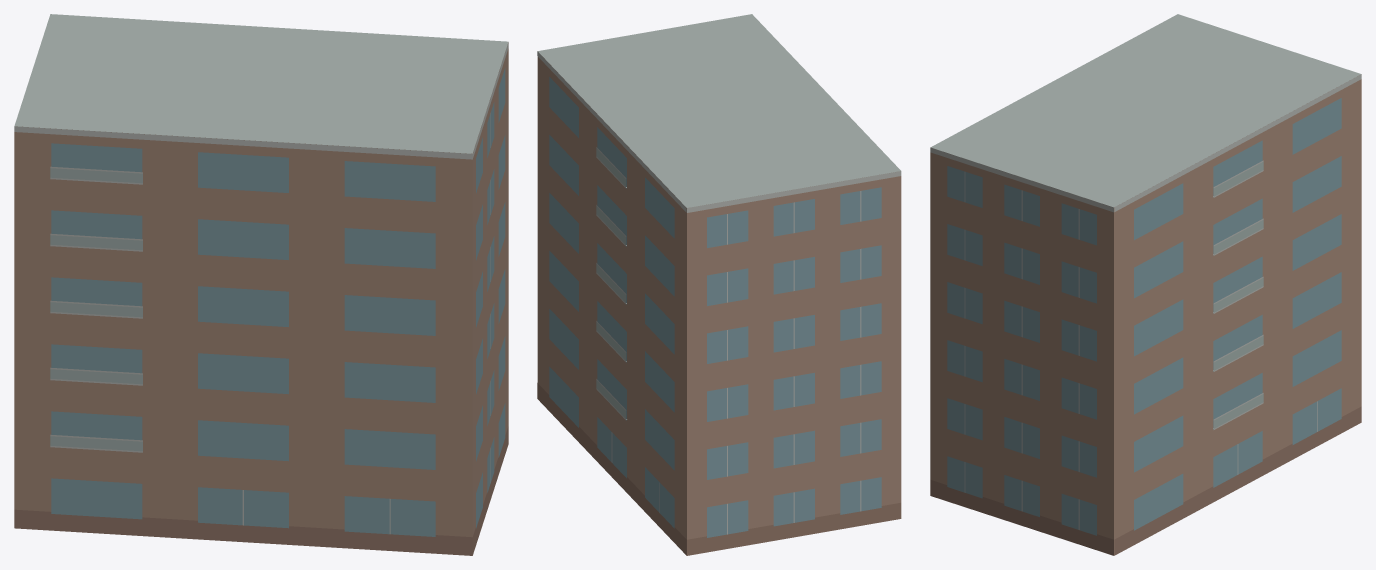
The model's file is survey-upis-32657198.glb.
The picture shows the model from 3 angles, left to right: view 1: azimuth 30°, elevation 25°; view 2: azimuth 150°, elevation 25°; view 3: azimuth 270°, elevation 25°; orthographic projection. The views are drawn at different scales.
Visible parts, largest first — view 1: survey-upis-32657198.tmp; view 2: survey-upis-32657198.tmp; view 3: survey-upis-32657198.tmp.
Boxes of the visible parts, bbox=[...] form: survey-upis-32657198.tmp: bbox=[14, 14, 508, 555]; survey-upis-32657198.tmp: bbox=[537, 14, 901, 555]; survey-upis-32657198.tmp: bbox=[930, 14, 1361, 555].
Size of the model in its own units: 20.37 by 17.1 by 19.19.
